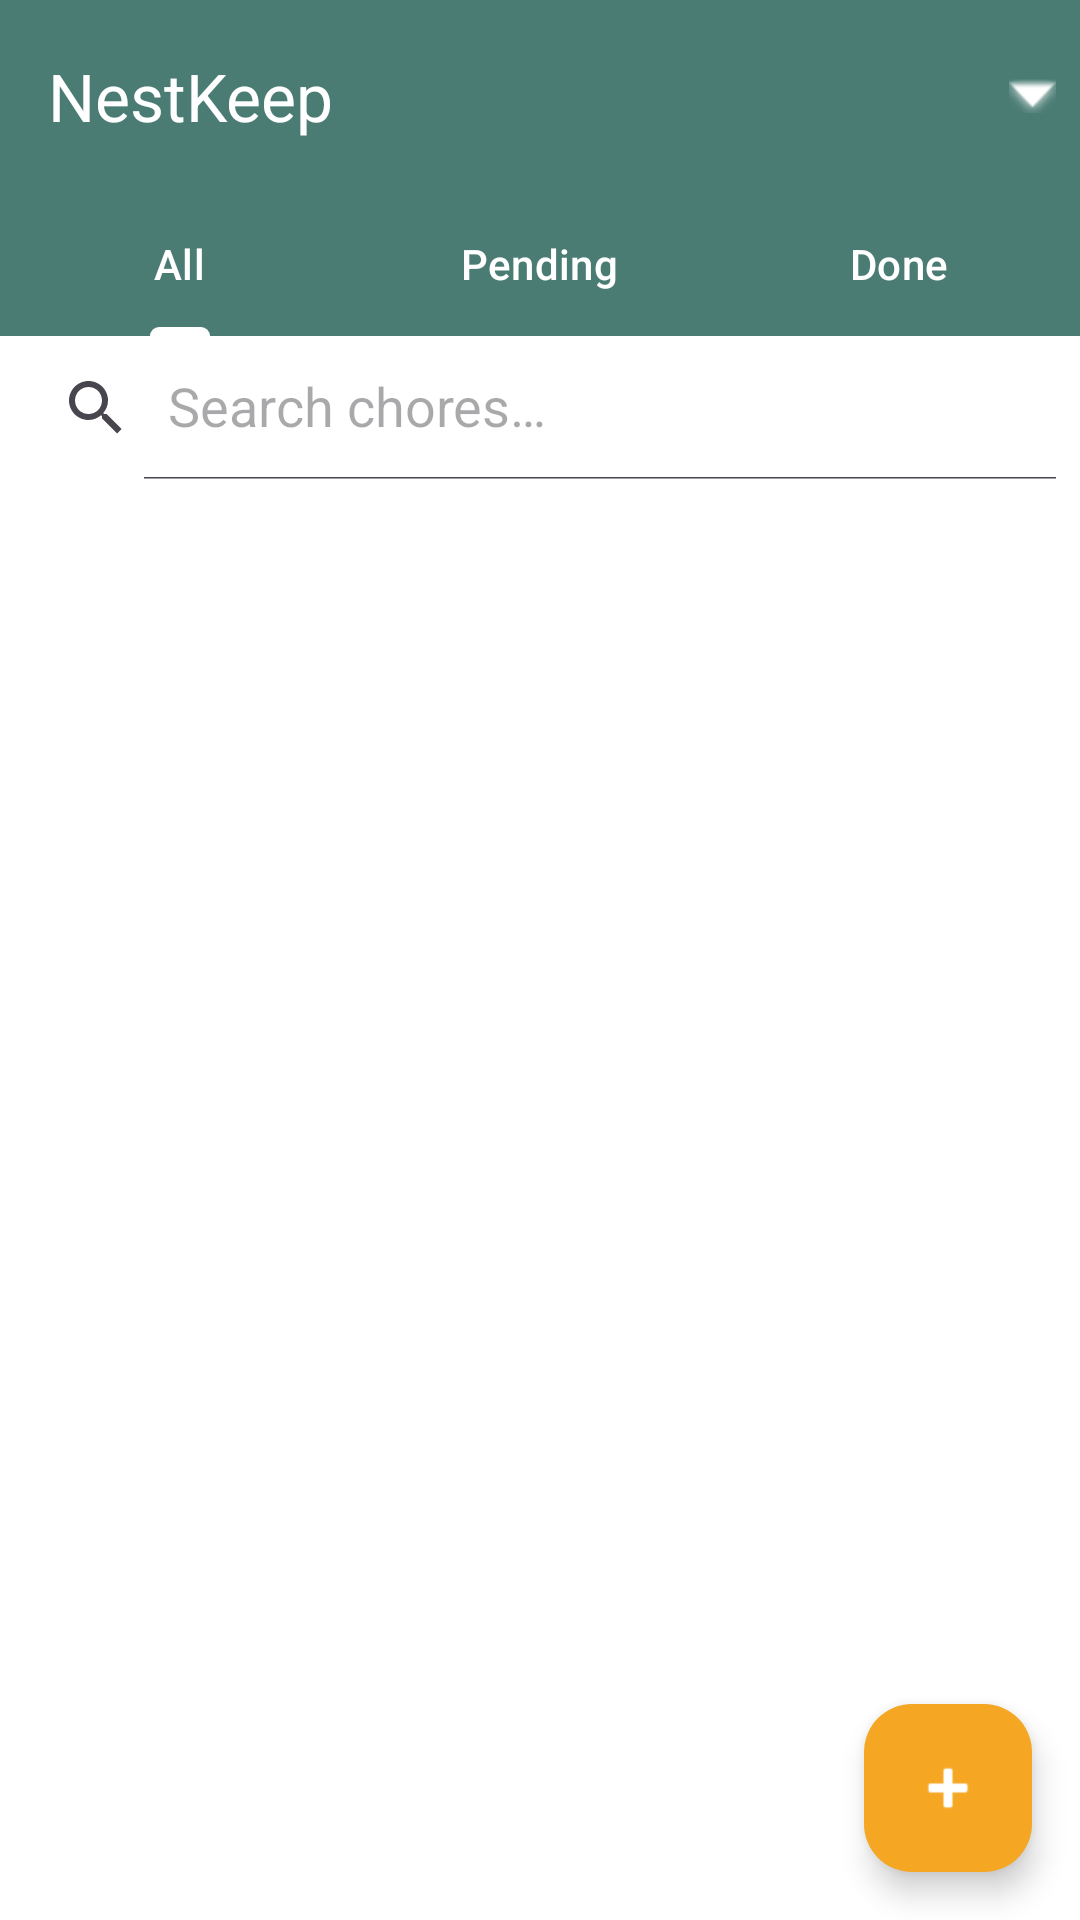

Locate icon controls on the screen. Image size 1080px×1920px, boxes as bbox(x1, y1, x2, y2).
Add new chore: bbox(864, 1704, 1032, 1872)
Open menu: bbox(1009, 80, 1056, 110)
